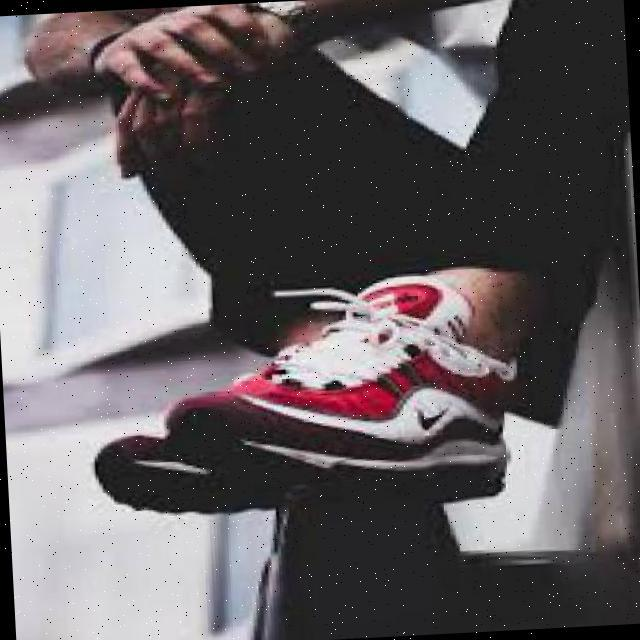Nike: (410, 395, 458, 433)
